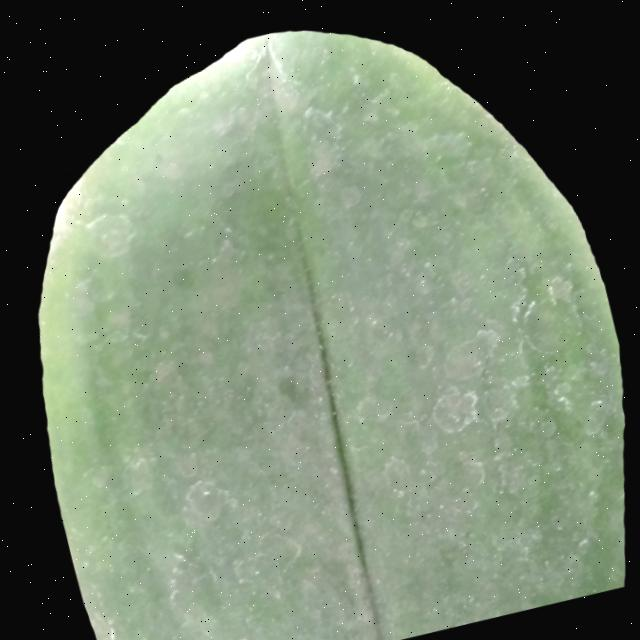mite: (176, 469, 241, 529), (427, 377, 488, 435), (270, 362, 316, 412), (276, 369, 306, 404), (335, 177, 367, 209), (171, 261, 201, 292), (408, 205, 433, 229)
spots: (0, 8, 636, 640)
